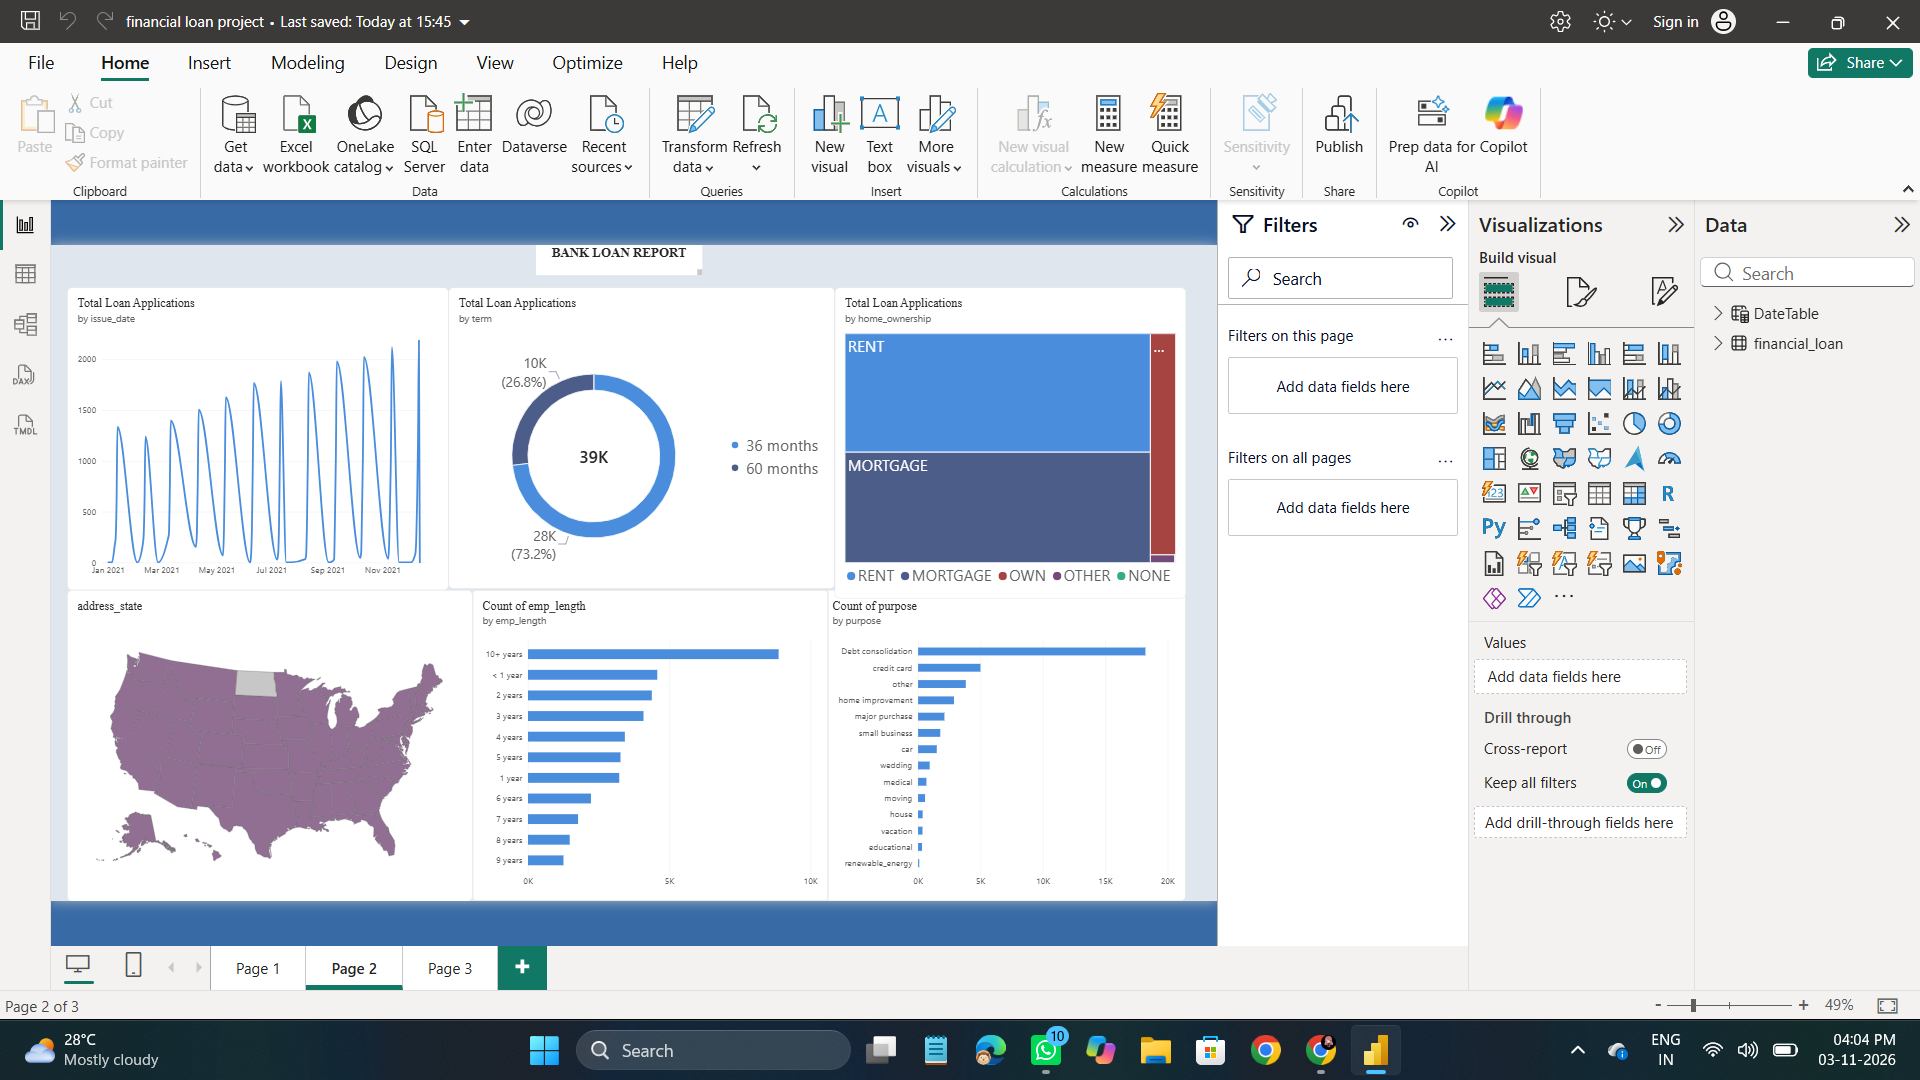

Layout of this report page (visuals, bound fields, positions):
{"tool":"powerbi","page":{"name":"Page 2","canvas":[1920,1080],"ordinal":1},"visuals":[{"type":"lineChart","fields":{"Category":["financial_loan .issue_date"],"Y":["DateTable.Total Loan Applications"]},"box":[26.8,70,627.8,498.1],"z":0},{"type":"shapeMap","fields":{"Category":["financial_loan .address_state"]},"box":[26.8,568.1,666.9,512.5],"z":1000},{"type":"barChart","fields":{"Category":["financial_loan .purpose"],"Y":["CountNonNull(financial_loan .purpose)"]},"box":[1270,568.1,598,511.8],"z":2000},{"type":"barChart","fields":{"Category":["financial_loan .emp_length"],"Y":["CountNonNull(financial_loan .emp_length)"]},"box":[693.7,568.1,586.3,511.8],"z":3000},{"type":"donutChart","fields":{"Category":["financial_loan .term"],"Y":["DateTable.Total Loan Applications"]},"box":[654.5,70,636,496.1],"z":4000},{"type":"treemap","fields":{"Group":["financial_loan .home_ownership"],"Values":["DateTable.Total Loan Applications"]},"box":[1290.6,70,578.4,511.8],"z":5000},{"type":"textbox","title":"BANK LOAN REPORT","box":[798.6,0,273.8,49.4],"z":6000}]}

Visuals, with their boxes on the page's 1920x1080 design canvas (x1, y1, x2, y2). These are canvas units, not pixel positions in the 1920x1080 screenshot, which may show the page scaled, cropped or inside an application window:
lineChart - financial_loan .issue_date x DateTable.Total Loan Applications: (left=27, top=70, right=655, bottom=568)
shapeMap - financial_loan .address_state: (left=27, top=568, right=694, bottom=1081)
barChart - financial_loan .purpose x CountNonNull(financial_loan .purpose): (left=1270, top=568, right=1868, bottom=1080)
barChart - financial_loan .emp_length x CountNonNull(financial_loan .emp_length): (left=694, top=568, right=1280, bottom=1080)
donutChart - financial_loan .term x DateTable.Total Loan Applications: (left=654, top=70, right=1290, bottom=566)
treemap - financial_loan .home_ownership x DateTable.Total Loan Applications: (left=1291, top=70, right=1869, bottom=582)
"BANK LOAN REPORT" textbox: (left=799, top=0, right=1072, bottom=49)
